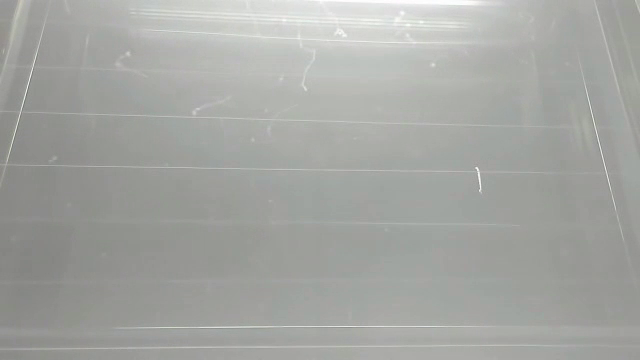alpha: (472, 163, 487, 196)
